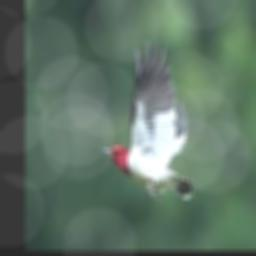Woodpecker: (101, 39, 198, 200)
